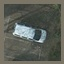car: (13, 21, 47, 44)
